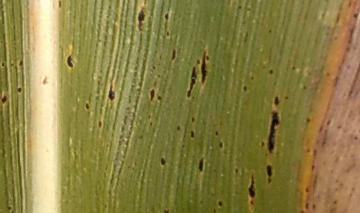tarspot: (266, 109, 281, 154), (198, 47, 211, 91), (186, 66, 198, 99), (245, 173, 259, 199), (134, 4, 146, 31), (263, 161, 276, 182), (106, 83, 118, 101), (146, 86, 157, 103), (169, 47, 179, 63), (197, 154, 205, 173), (66, 54, 75, 70), (81, 100, 93, 112), (14, 84, 25, 96), (214, 198, 226, 209), (157, 155, 167, 168), (216, 139, 226, 152), (271, 93, 280, 106), (266, 66, 275, 79), (188, 127, 196, 141), (240, 83, 249, 95), (162, 11, 171, 22), (15, 58, 26, 67), (1, 93, 9, 105), (97, 118, 104, 131), (175, 123, 181, 135)
